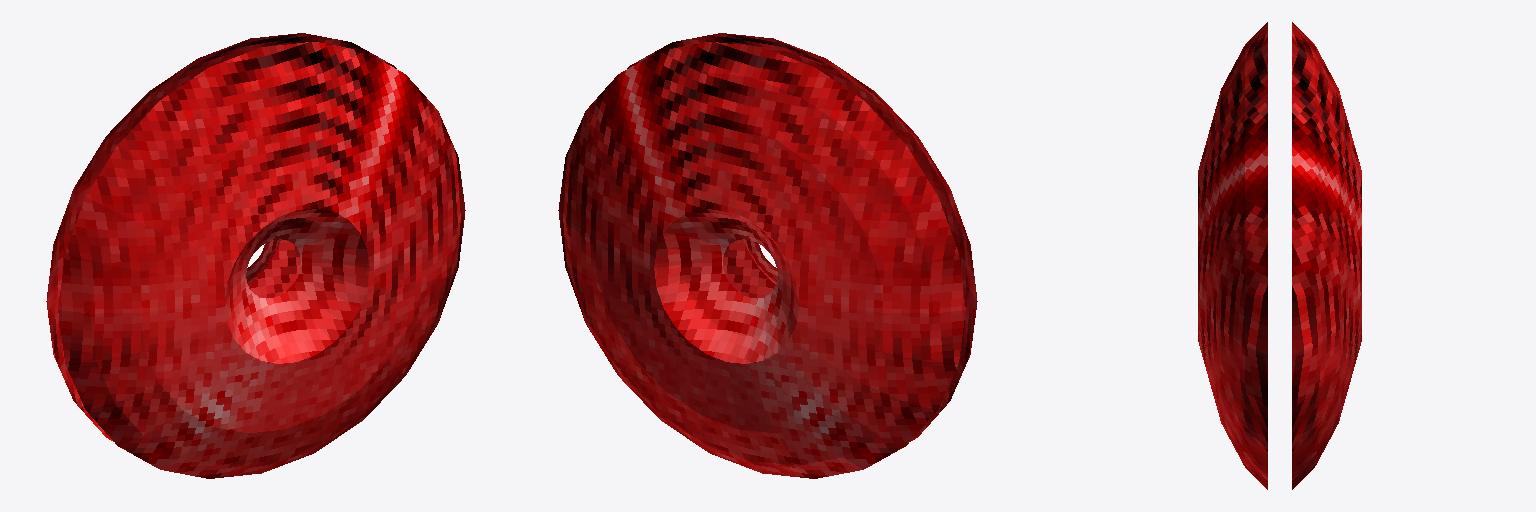
3 views of the same model, side by side, from view 1: azimuth 30°, elevation 25°; view 2: azimuth 150°, elevation 25°; view 3: azimuth 270°, elevation 25° (orthographic).
Parts seen in each view (by area): view 1: Mesh.001_Mesh1_Group1_Model, Mesh_Mesh2_Group2_Model; view 2: Mesh_Mesh2_Group2_Model, Mesh.001_Mesh1_Group1_Model; view 3: Mesh.001_Mesh1_Group1_Model, Mesh_Mesh2_Group2_Model.
Boxes of the visible parts, <box> form: Mesh.001_Mesh1_Group1_Model: <box>58,42,465,478</box>; Mesh_Mesh2_Group2_Model: <box>46,33,396,441</box>; Mesh_Mesh2_Group2_Model: <box>558,42,965,478</box>; Mesh.001_Mesh1_Group1_Model: <box>627,33,977,441</box>; Mesh.001_Mesh1_Group1_Model: <box>1198,22,1267,489</box>; Mesh_Mesh2_Group2_Model: <box>1292,22,1361,489</box>.
Size of the model in its own units: 20 by 20 by 7.
Materials: 1 (1 with a texture image).